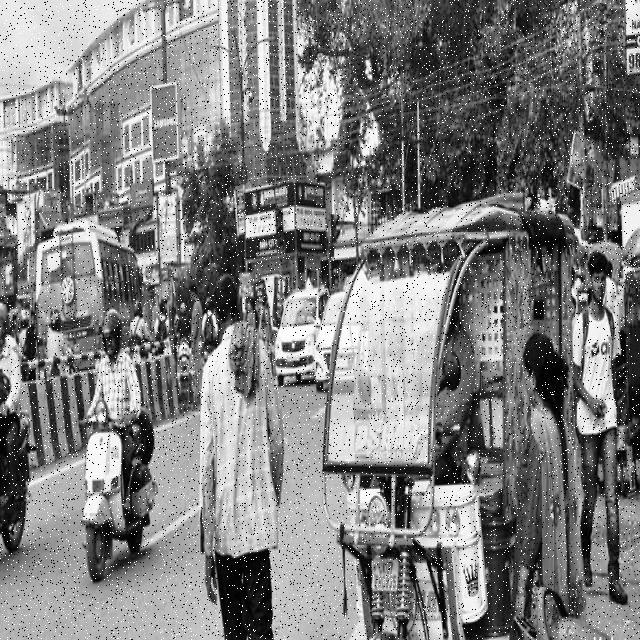Toto: (317, 187, 577, 640)
